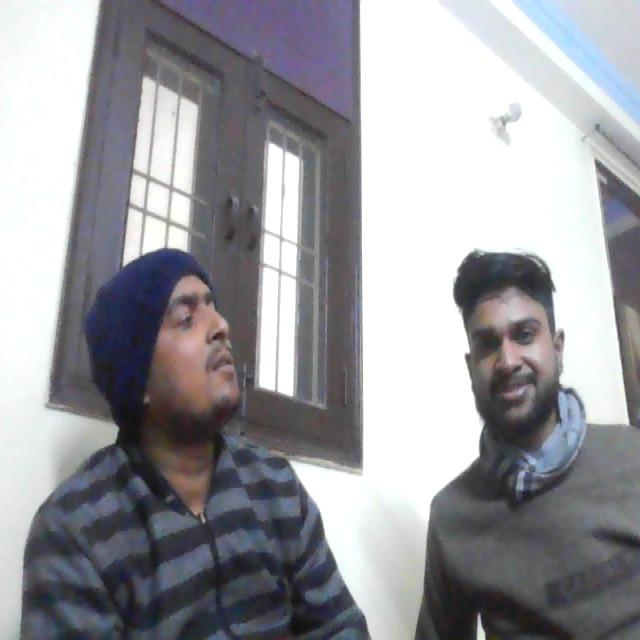real: (459, 237, 563, 433)
